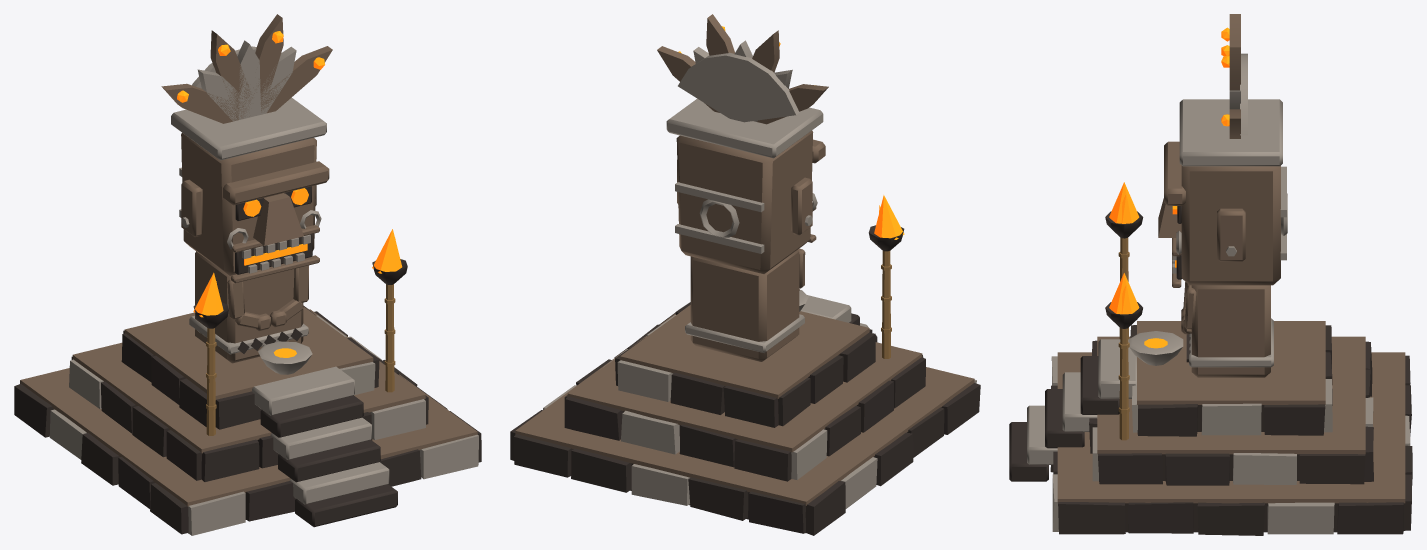
The model's file is tiki_shrine.glb.
3 views of the same model, side by side, from view 1: azimuth 30°, elevation 25°; view 2: azimuth 150°, elevation 25°; view 3: azimuth 270°, elevation 25° (orthographic). The views are drawn at different scales.
Parts seen in each view (by area): view 1: tiki_shrine; view 2: tiki_shrine; view 3: tiki_shrine.
Boxes of the visible parts, box(x1,y1,x2,y2) form: tiki_shrine: box(14, 14, 481, 535); tiki_shrine: box(510, 14, 980, 535); tiki_shrine: box(1009, 14, 1412, 535).
Bounding box in the file's own units: 4.59 × 5.98 × 5.09.
